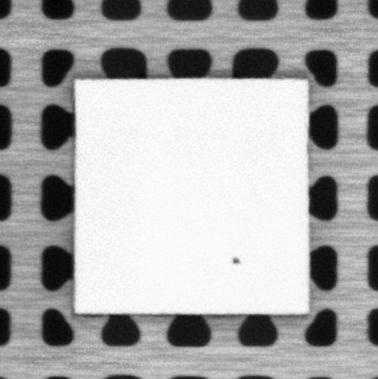DIE_INK: (231, 254, 240, 266)
